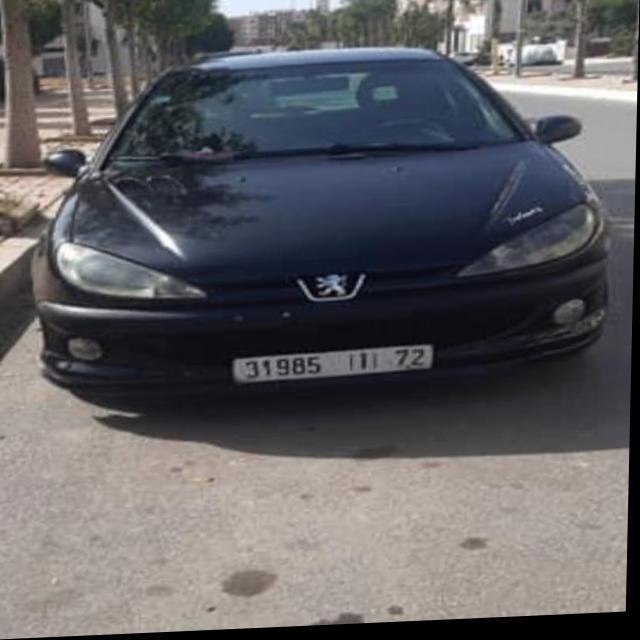License-Plate: (233, 348, 436, 386)
